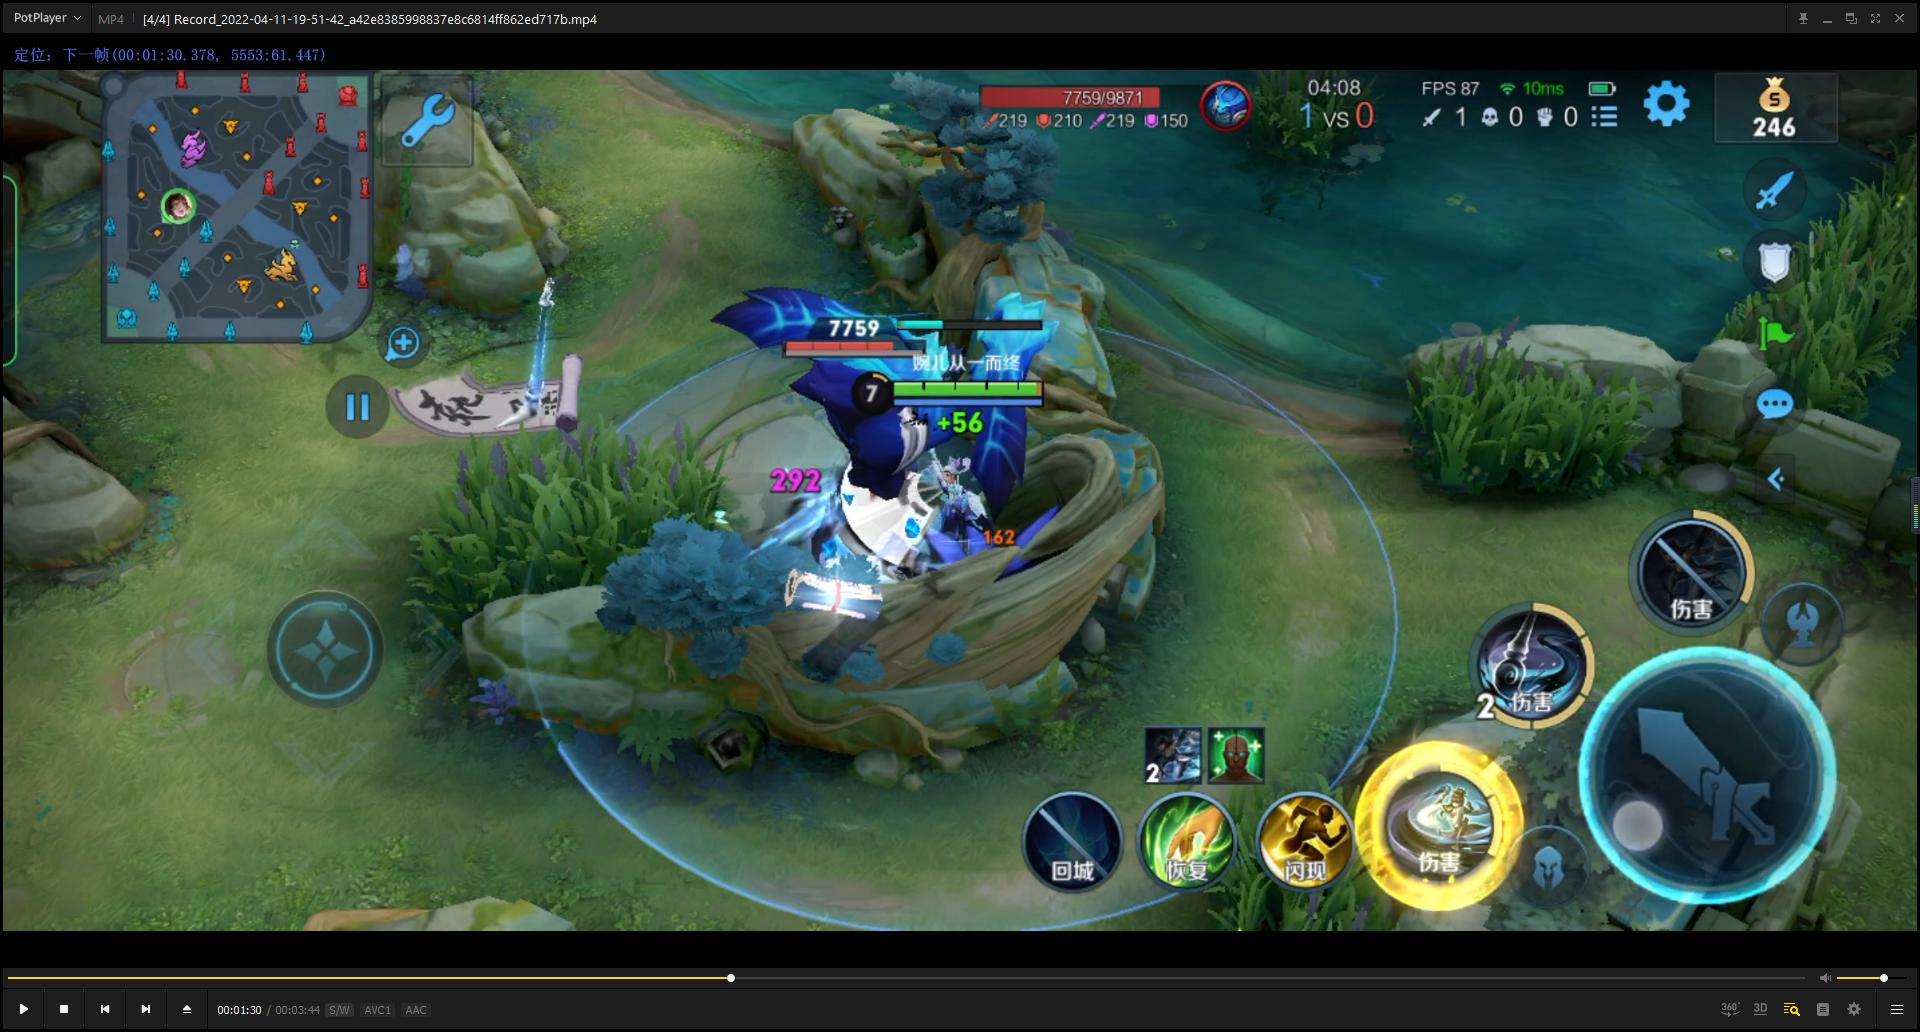Buff: (695, 280, 1058, 613)
Hero: (886, 430, 1045, 581)
